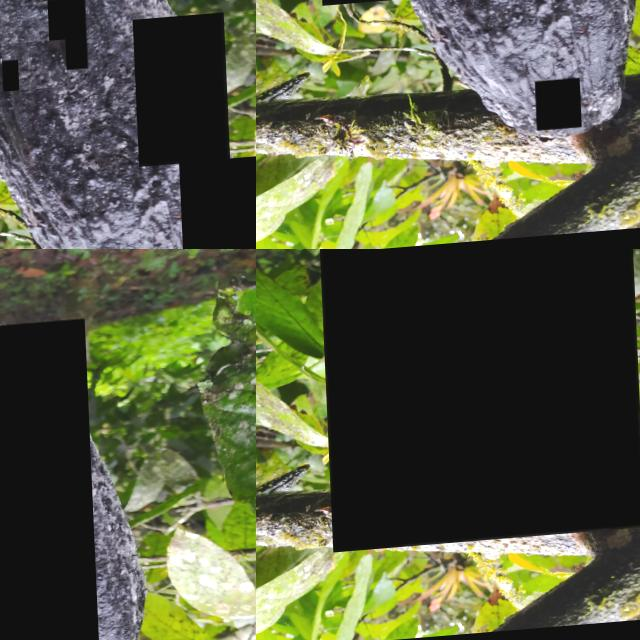Fitoftora: (311, 249, 640, 555)
Sana: (0, 326, 97, 640), (130, 21, 227, 174), (0, 45, 64, 96), (45, 3, 85, 77), (530, 86, 577, 137)
